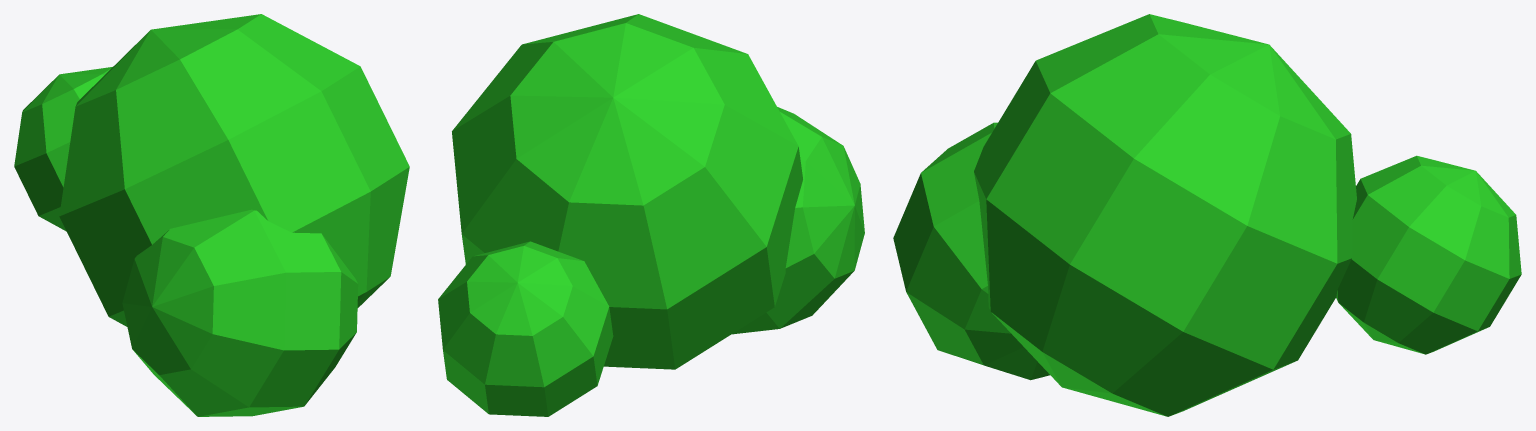
Rendered from bush.fbx.
3 renders of one model, left to right at view 1: azimuth 30°, elevation 25°; view 2: azimuth 150°, elevation 25°; view 3: azimuth 270°, elevation 25°, orthographic. The views are drawn at different scales.
Parts seen in each view (by area): view 1: Bush36; view 2: Bush36; view 3: Bush36.
Boxes of the visible parts, x1=… form: Bush36: x1=14, y1=14, x2=409, y2=416; Bush36: x1=438, y1=14, x2=864, y2=416; Bush36: x1=893, y1=14, x2=1521, y2=416.
Bounding box in the file's own units: 152 × 154 × 239.
